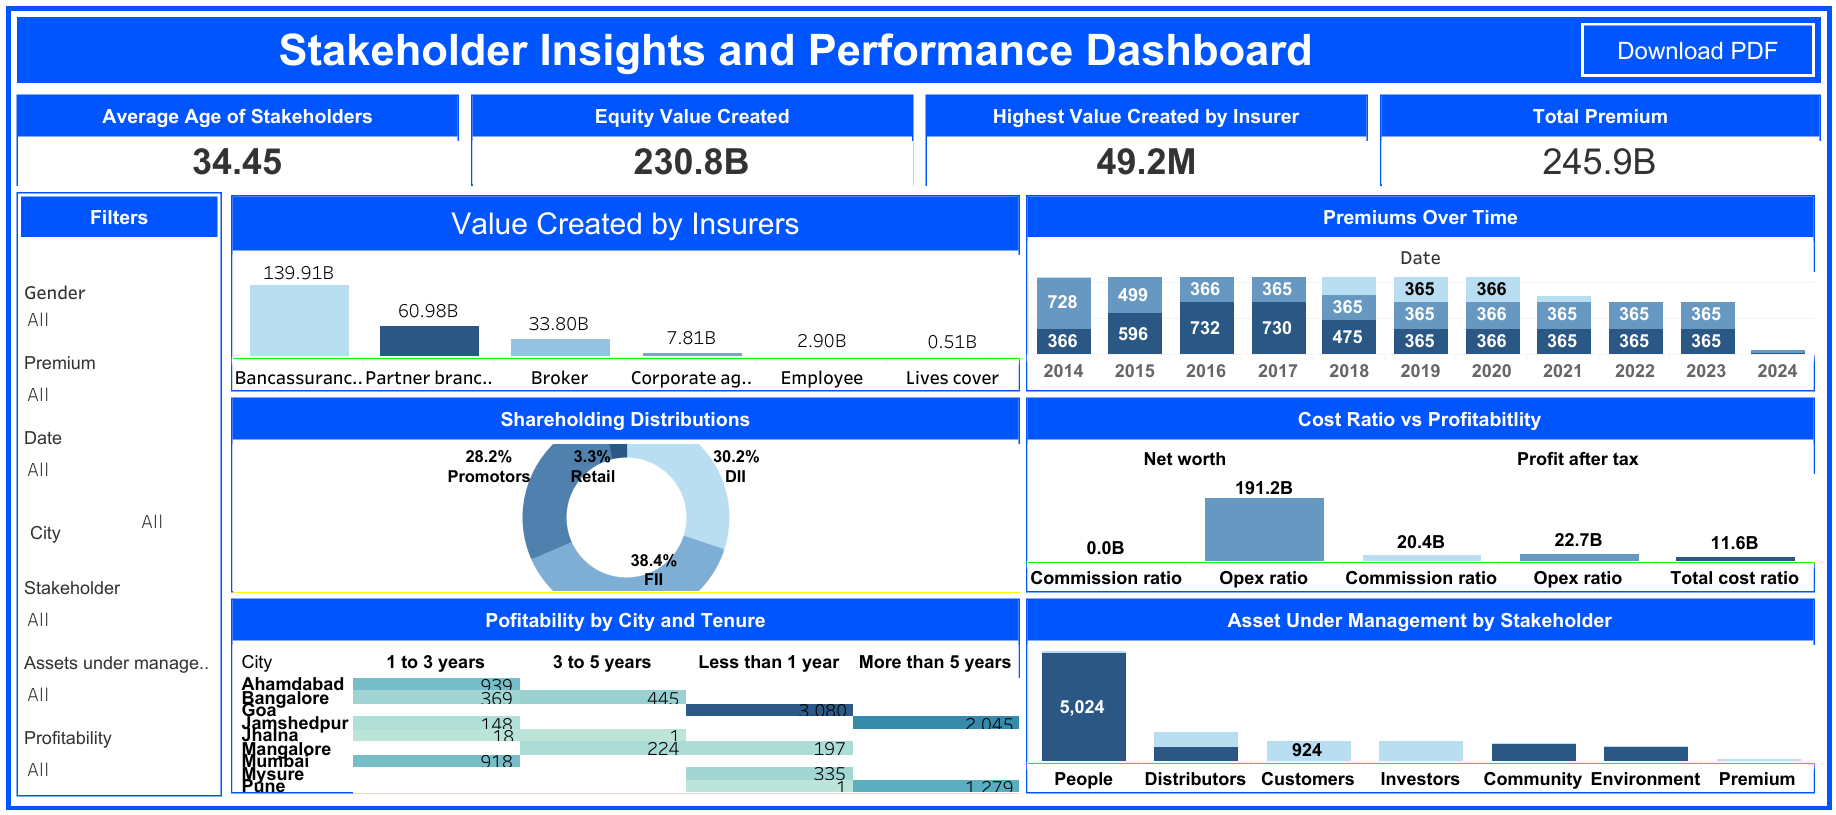

This screenshot's page, from the dashboard's own definition file:
{"tool":"tableau","page":{"name":"Dashboard","canvas":[1000,1000],"units":"permille","ordinal":0},"visuals":[{"type":"text","box":[7,16.4,881.8,65.8]},{"type":"dashboard-object","box":[888.8,16.4,104.2,65.8]},{"type":"worksheet","title":"Average Age of Stakeholders","mark":"Automatic","box":[4.5,88.2,247.8,100.2]},{"type":"worksheet","title":"Equity Value Created","mark":"Automatic","box":[252.2,88.2,247.8,100.2]},{"type":"worksheet","title":"Highest Value Created by Insurer","mark":"Automatic","box":[500,88.2,247.8,100.2]},{"type":"worksheet","title":"Total Premium","mark":"Automatic","box":[747.8,88.2,247.8,100.2]},{"type":"worksheet","title":"Value Created by Insurers","mark":"Automatic","rows":["Value Created"],"cols":["Insurer"],"box":[96.6,191.3,447.9,263.1]},{"type":"worksheet","title":"Premiums Over Time","mark":"Bar","rows":["Premium 1"],"cols":["Date"],"box":[544.5,191.3,447.3,263.1]},{"type":"worksheet","title":"Filters","mark":"Automatic","box":[7.6,192.8,85.8,98.7]},{"type":"filter","title":"Filters","param":"[federated.05b7irg1ikpfpj1gk45zc09t3e12].[none:Gender:nk]","box":[7.6,291.5,85.8,98.7]},{"type":"filter","title":"Filters","param":"[federated.05b7irg1ikpfpj1gk45zc09t3e12].[none:Premium 1:nk]","box":[7.6,390.1,85.8,98.7]},{"type":"worksheet","title":"Shareholding Distributions","mark":"Automatic","rows":["Calculation_901564388234420224","Calculation_901564388234420224"],"box":[96.6,454.4,447.9,263.1]},{"type":"worksheet","title":"Cost Ratio vs Profitabitlity","mark":"Automatic","rows":["Value Created"],"cols":["Profitability","Cost ratio"],"box":[544.5,454.4,447.3,263.1]},{"type":"filter","title":"Filters","param":"[federated.05b7irg1ikpfpj1gk45zc09t3e12].[my:Date:ok]","box":[7.6,488.8,85.8,98.7]},{"type":"filter","title":"Filters","param":"[federated.05b7irg1ikpfpj1gk45zc09t3e12].[none:City:nk]","box":[10.2,593.4,80.7,77.7]},{"type":"filter","title":"Filters","param":"[federated.05b7irg1ikpfpj1gk45zc09t3e12].[none:Stakeholder:nk]","box":[7.6,686.1,85.8,98.7]},{"type":"worksheet","title":"Pofitability by City and Tenure","mark":"Square","rows":["City"],"cols":["Policy tenuer"],"box":[96.6,717.5,447.9,263.1]},{"type":"worksheet","title":"Asset Under Management by Stakeholder","mark":"Automatic","rows":["Assets under management"],"cols":["Stakeholder"],"box":[544.5,717.5,447.3,263.1]},{"type":"filter","title":"Filters","param":"[federated.05b7irg1ikpfpj1gk45zc09t3e12].[none:Assets under management:nk]","box":[7.6,784.8,85.8,97.2]},{"type":"filter","title":"Filters","param":"[federated.05b7irg1ikpfpj1gk45zc09t3e12].[none:Profitability:nk]","box":[7.6,881.9,85.8,97.2]}]}

Visuals, with their boxes on the dashboard's canvas, which has no fixed pixel size, in thousandths of its width and height (x1, y1, x2, y2). These are canvas units, not pixel positions in the 1836x815 screenshot, which may show the page scaled, cropped or inside an application window:
text: [7,16,889,82]
dashboard-object: [889,16,993,82]
"Average Age of Stakeholders" worksheet: [4,88,252,188]
"Equity Value Created" worksheet: [252,88,500,188]
"Highest Value Created by Insurer" worksheet: [500,88,748,188]
"Total Premium" worksheet: [748,88,996,188]
"Value Created by Insurers" worksheet: [97,191,544,454]
"Premiums Over Time" worksheet (Bar marks): [544,191,992,454]
"Filters" worksheet: [8,193,93,292]
"Filters" filter: [8,292,93,390]
"Filters" filter: [8,390,93,489]
"Shareholding Distributions" worksheet: [97,454,544,718]
"Cost Ratio vs Profitabitlity" worksheet: [544,454,992,718]
"Filters" filter: [8,489,93,588]
"Filters" filter: [10,593,91,671]
"Filters" filter: [8,686,93,785]
"Pofitability by City and Tenure" worksheet (Square marks): [97,718,544,981]
"Asset Under Management by Stakeholder" worksheet: [544,718,992,981]
"Filters" filter: [8,785,93,882]
"Filters" filter: [8,882,93,979]
